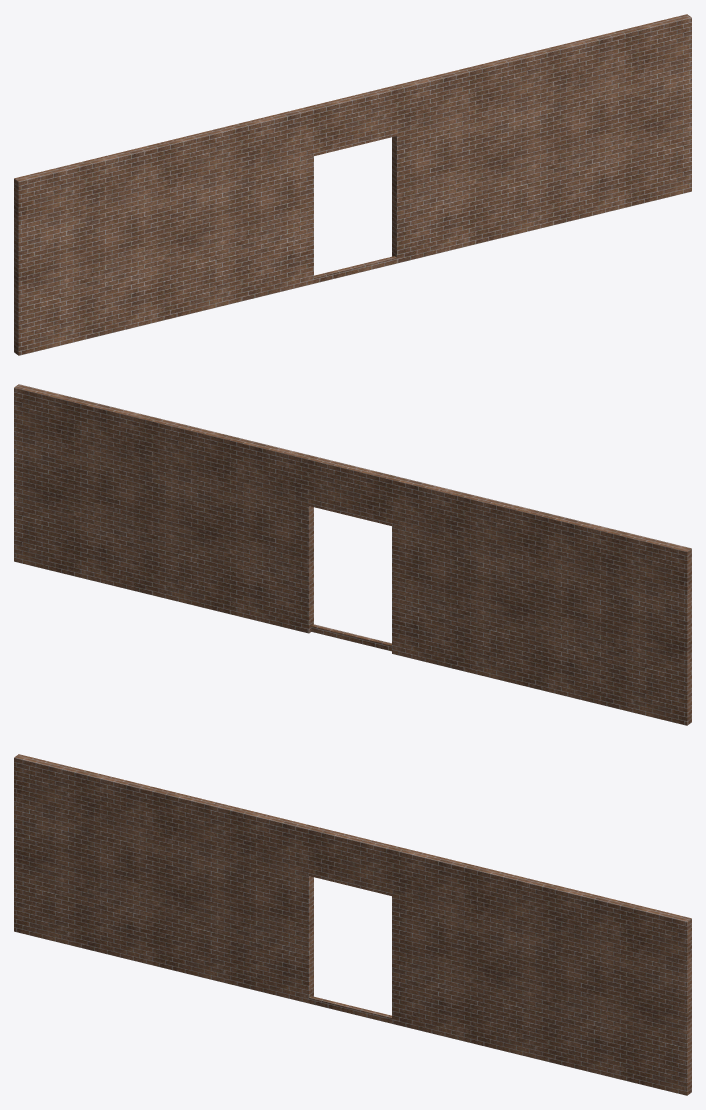
The model's file is Joglo_part_21.fbx.
The picture shows the model from 3 angles, top to bottom: view 1: azimuth 30°, elevation 25°; view 2: azimuth 150°, elevation 25°; view 3: azimuth 330°, elevation 25°; orthographic projection.
Visible parts, largest first — view 1: Mesh116_Brick___Brown_0.001; view 2: Mesh116_Brick___Brown_0.001; view 3: Mesh116_Brick___Brown_0.001.
Boxes of the visible parts, bbox=[...] form: Mesh116_Brick___Brown_0.001: bbox=[14, 14, 691, 355]; Mesh116_Brick___Brown_0.001: bbox=[14, 384, 691, 725]; Mesh116_Brick___Brown_0.001: bbox=[14, 754, 691, 1095].
Bounding box in the file's own units: 478 × 118 × 5.91.
